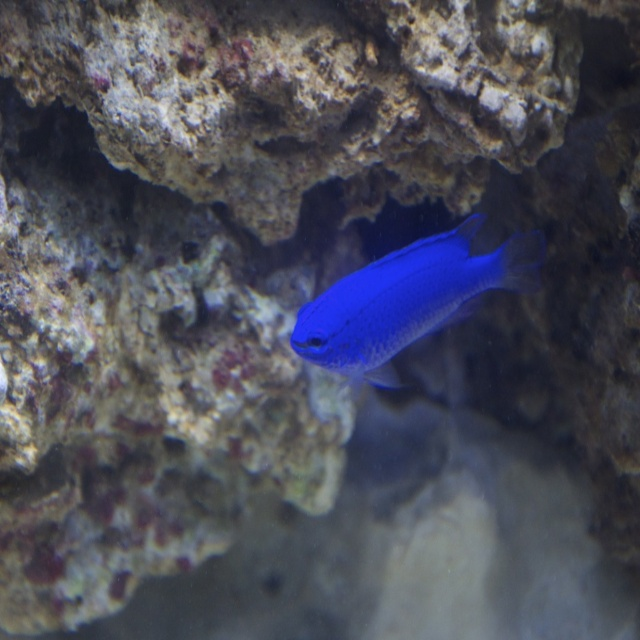Fish: (301, 182, 549, 394)
